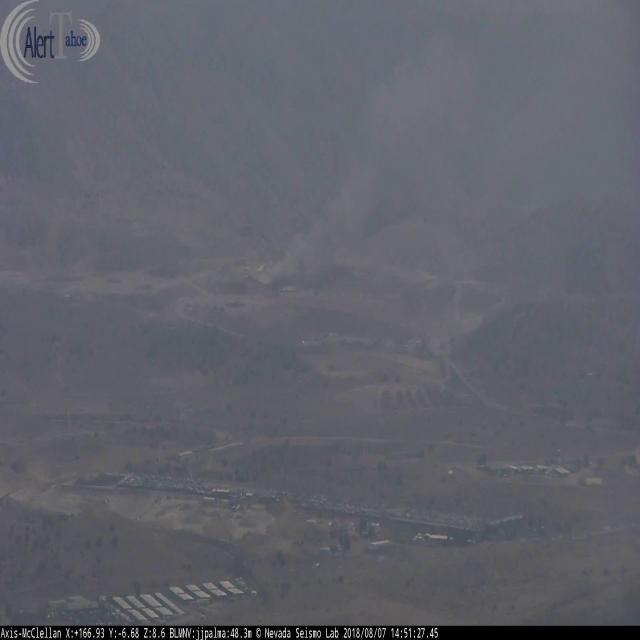smoke: (262, 29, 482, 294)
